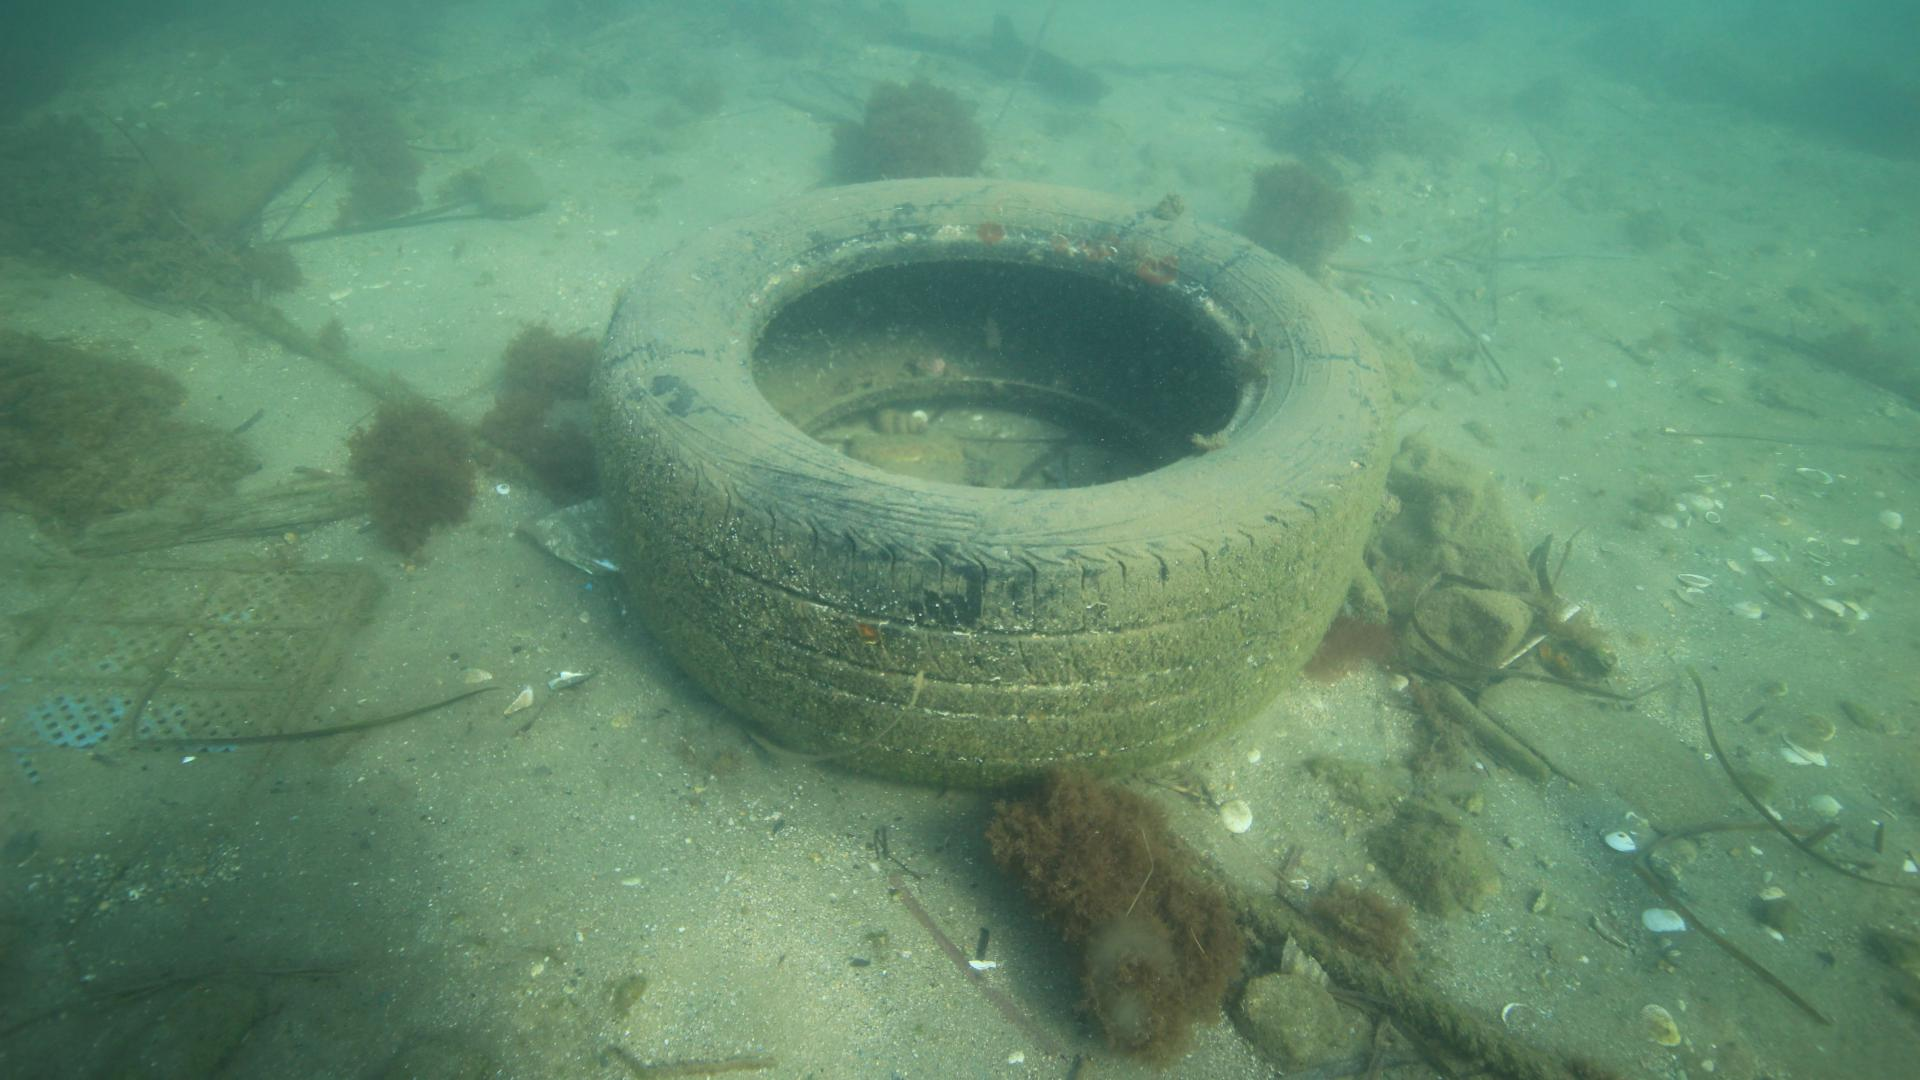rope: (1182, 858, 1576, 1080), (237, 305, 582, 505)
tire: (593, 173, 1395, 781)
